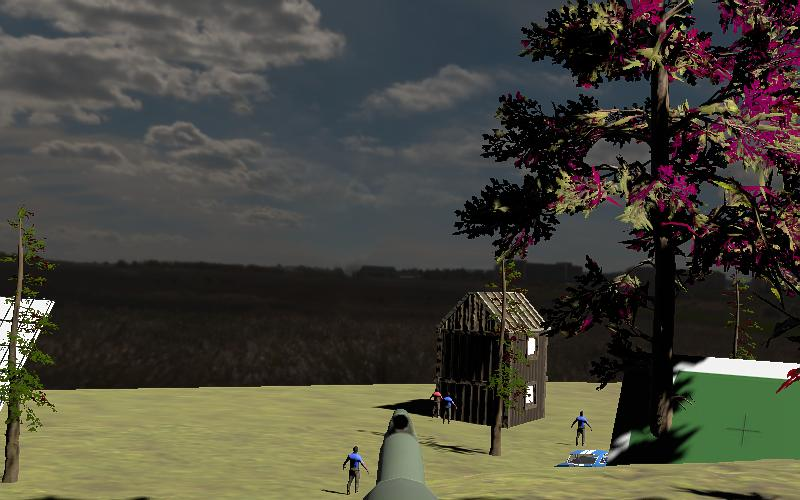Human: (771, 338, 800, 469), (340, 443, 371, 497), (569, 407, 594, 449)
